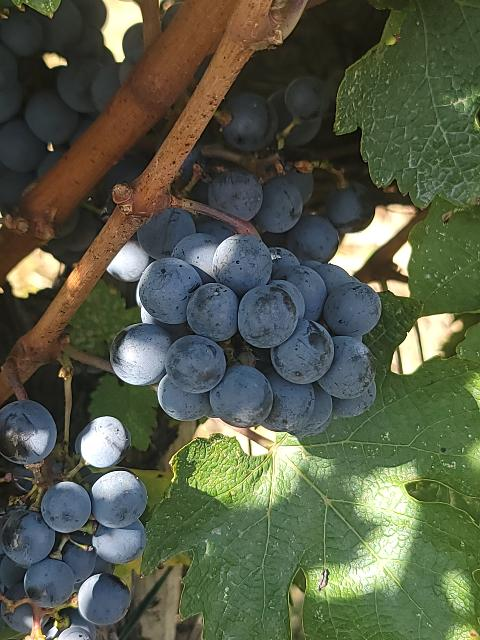grapes: (110, 209, 381, 439), (196, 0, 376, 264), (0, 395, 148, 640), (0, 0, 121, 215)
